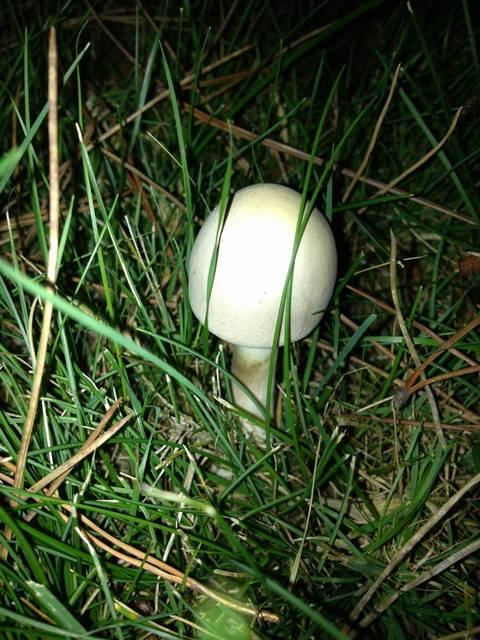poisonous_mushroom: (186, 181, 338, 449)
